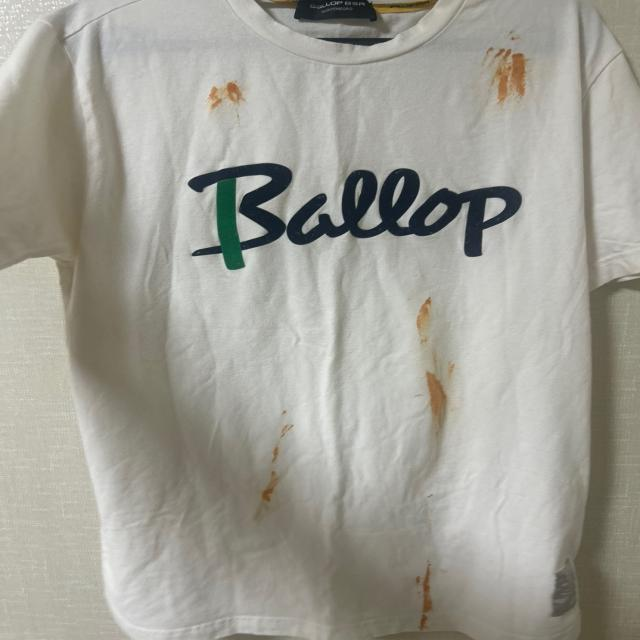stain: (260, 404, 304, 511), (481, 46, 543, 104), (419, 354, 464, 430), (200, 72, 256, 118), (414, 558, 445, 631), (416, 294, 442, 347), (504, 33, 528, 51)
